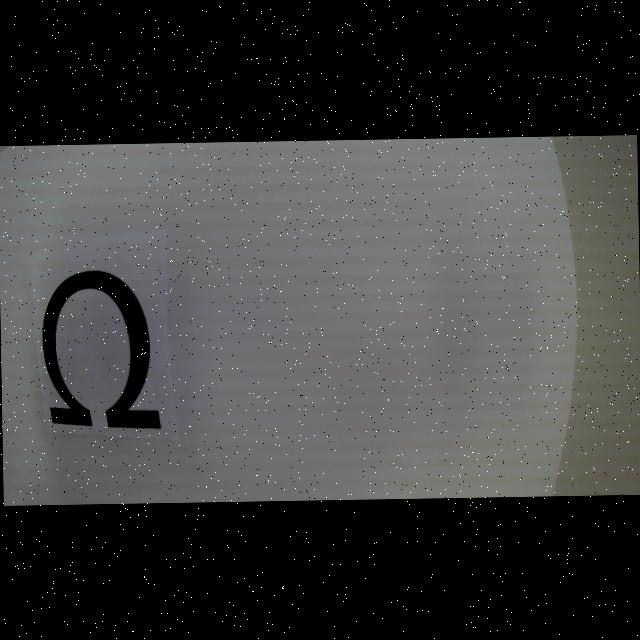OMEGA: (42, 269, 162, 431)
